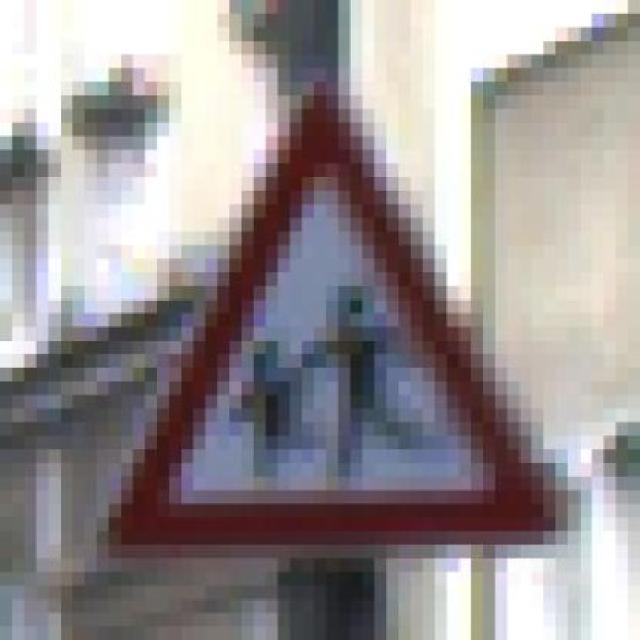Beware of children: (109, 68, 568, 572)
